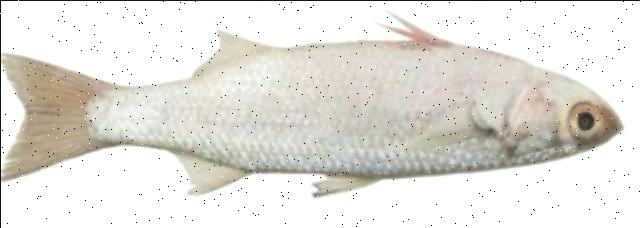Mulut: (570, 86, 634, 144)
Sirip Anal: (184, 20, 270, 88)
Sirip Dada: (388, 101, 482, 151)
Sirip Ekor: (1, 42, 98, 190)
Sirip Perut: (370, 0, 463, 57)
Sirip Punggung: (162, 146, 390, 206)
